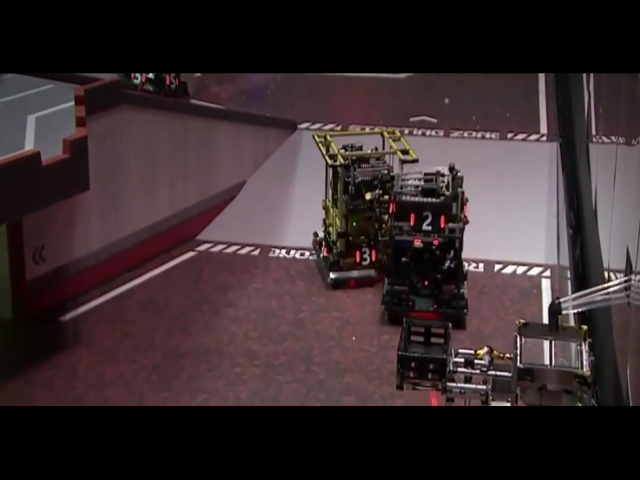bluePlate: (246, 168, 277, 188), (420, 324, 443, 348), (178, 205, 193, 224), (377, 139, 393, 155)
redPlate: (20, 351, 62, 381), (92, 340, 114, 369), (329, 179, 348, 197)
